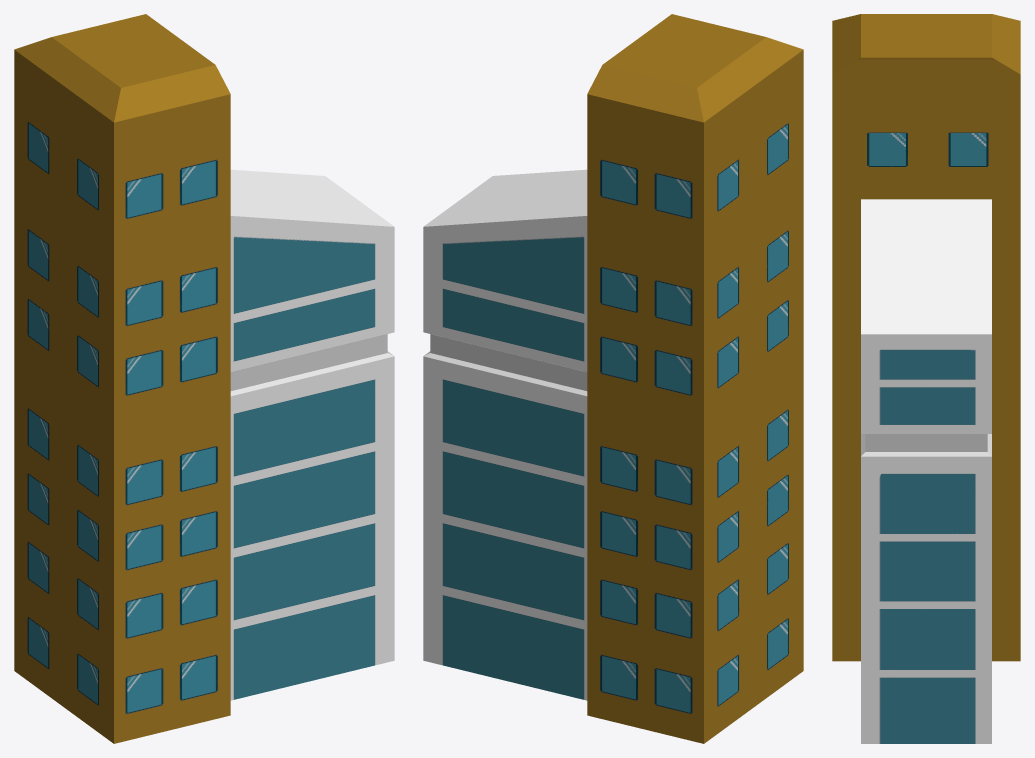
Rendered from OfficeBuilding.fbx.
The picture shows the model from 3 angles, left to right: view 1: azimuth 30°, elevation 25°; view 2: azimuth 150°, elevation 25°; view 3: azimuth 270°, elevation 25°; orthographic projection. The views are drawn at different scales.
Parts seen in each view (by area): view 1: Office; view 2: Office; view 3: Office.
Part boxes in pixels (x1=…): Office: x1=14, y1=14, x2=394, y2=743; Office: x1=423, y1=14, x2=803, y2=743; Office: x1=832, y1=14, x2=1020, y2=743.
Bounding box in the file's own units: 5.49 × 11.34 × 3.21.
